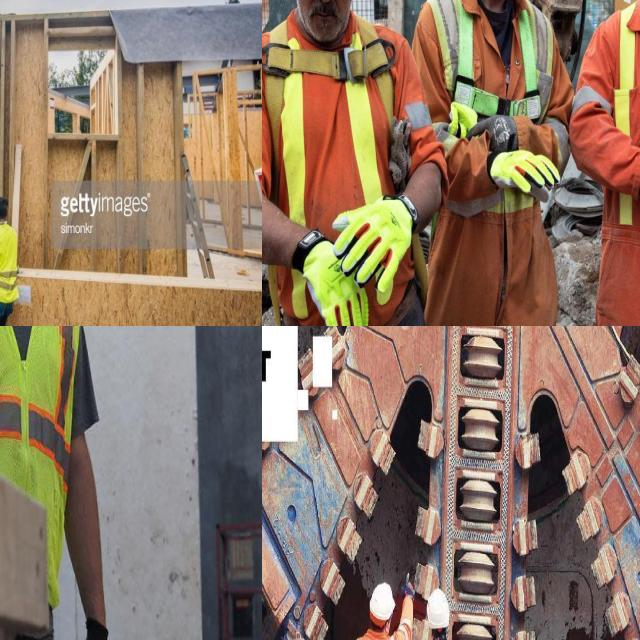face_nomask: (284, 0, 360, 57)
hand_glove: (284, 230, 377, 326), (327, 191, 418, 286), (488, 137, 561, 211), (81, 621, 117, 640), (400, 567, 417, 604)
head_helmet: (368, 584, 393, 621), (425, 591, 449, 629)
person: (262, 0, 442, 326), (412, 0, 574, 326), (0, 326, 105, 640), (577, 0, 640, 326), (0, 197, 19, 326)
vest: (262, 30, 417, 326), (441, 0, 561, 223), (0, 326, 82, 628), (600, 8, 640, 252), (0, 227, 23, 303)
